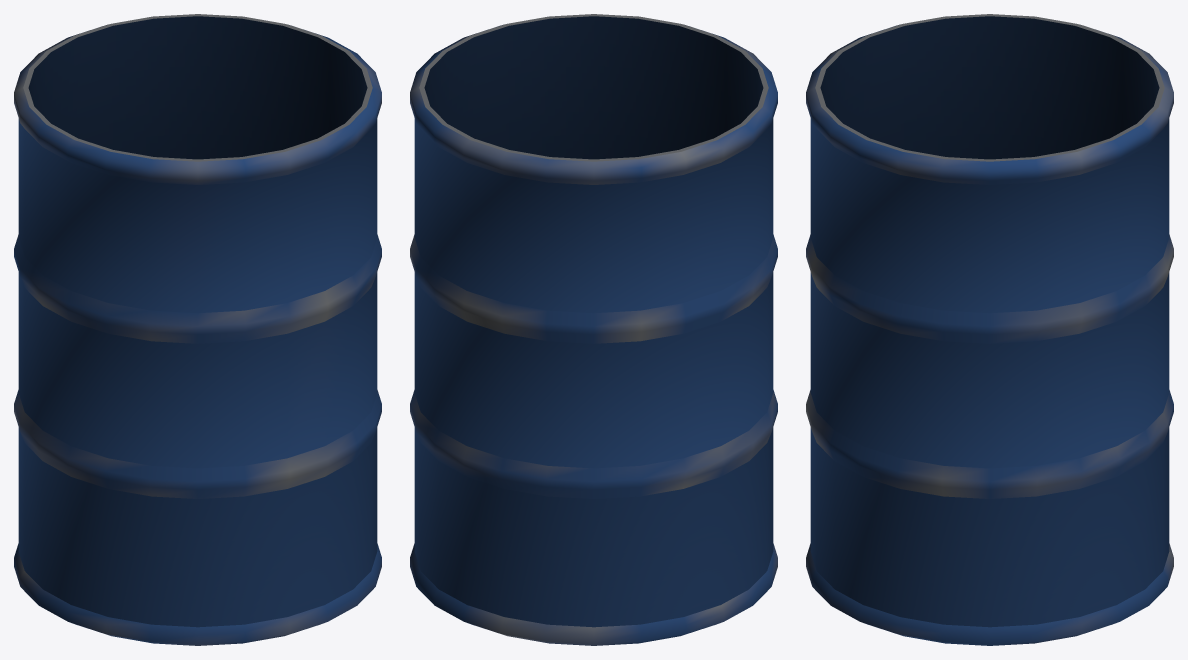
Rendered from drum.steel_open.blue.glb.
3 views of the same model, side by side, from view 1: azimuth 30°, elevation 25°; view 2: azimuth 150°, elevation 25°; view 3: azimuth 270°, elevation 25° (orthographic).
Visible parts, largest first — view 1: drum_steel_open_blue; view 2: drum_steel_open_blue; view 3: drum_steel_open_blue.
Part boxes in pixels (bbox=[...]): drum_steel_open_blue: bbox=[14, 14, 381, 645]; drum_steel_open_blue: bbox=[410, 14, 777, 645]; drum_steel_open_blue: bbox=[806, 14, 1173, 645].
Size of what is drawn, in the model's own units: 0.653 by 0.95 by 0.653.
